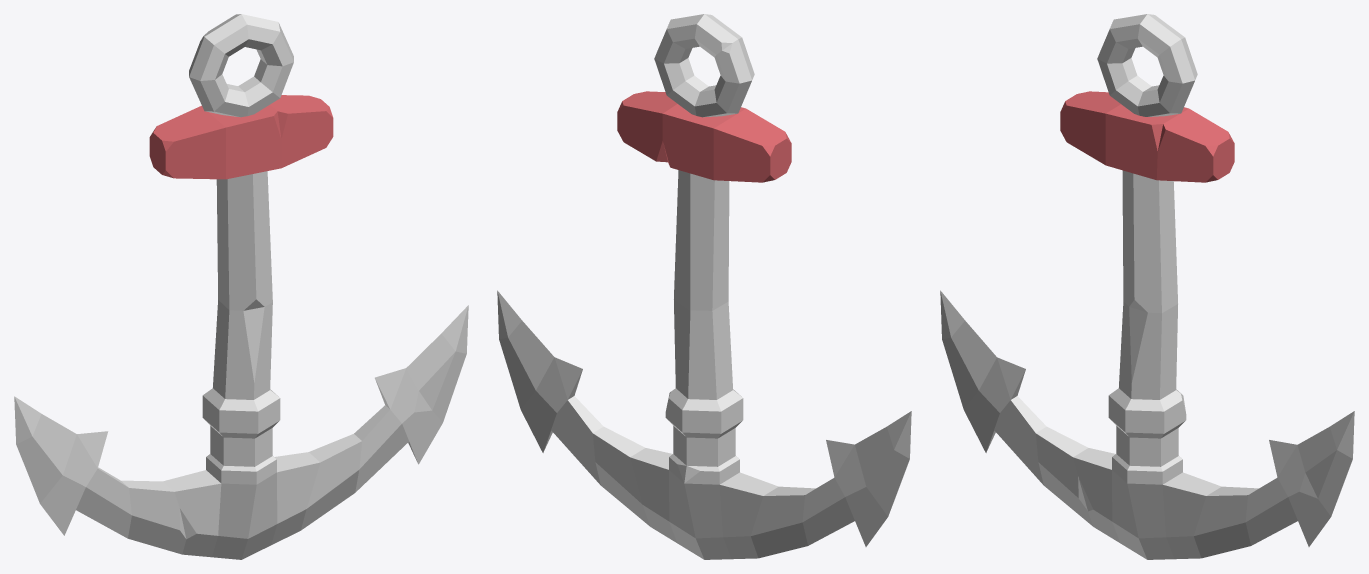
Rendered from Anchor.fbx.
3 views of the same model, side by side, from view 1: azimuth 30°, elevation 25°; view 2: azimuth 150°, elevation 25°; view 3: azimuth 330°, elevation 25° (orthographic).
Visible parts, largest first — view 1: Anchor; view 2: Anchor; view 3: Anchor.
Boxes of the visible parts, left/top/right/bottom form: Anchor: left=14, top=14, right=468, bottom=559; Anchor: left=497, top=14, right=911, bottom=559; Anchor: left=940, top=14, right=1354, bottom=559.
Bounding box in the file's own units: 0.6949 × 0.8346 × 0.1076.
